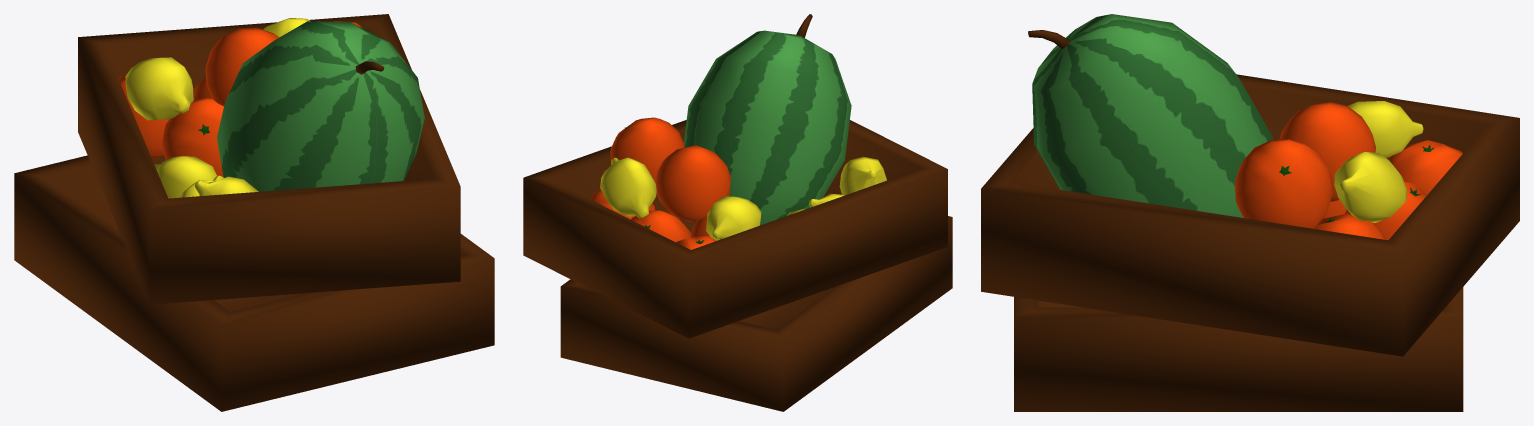
Rendered from fruitbox.obj.
3 renders of one model, left to right at view 1: azimuth 30°, elevation 25°; view 2: azimuth 150°, elevation 25°; view 3: azimuth 270°, elevation 25°, orthographic. The views are drawn at different scales.
Parts seen in each view (by area): view 1: fruitbox; view 2: fruitbox; view 3: fruitbox.
Boxes of the visible parts, left/top/right/bottom form: fruitbox: left=14, top=14, right=494, bottom=411; fruitbox: left=523, top=14, right=952, bottom=411; fruitbox: left=981, top=14, right=1519, bottom=411.
Size of the model in its own units: 27.62 by 21.36 by 31.36.
